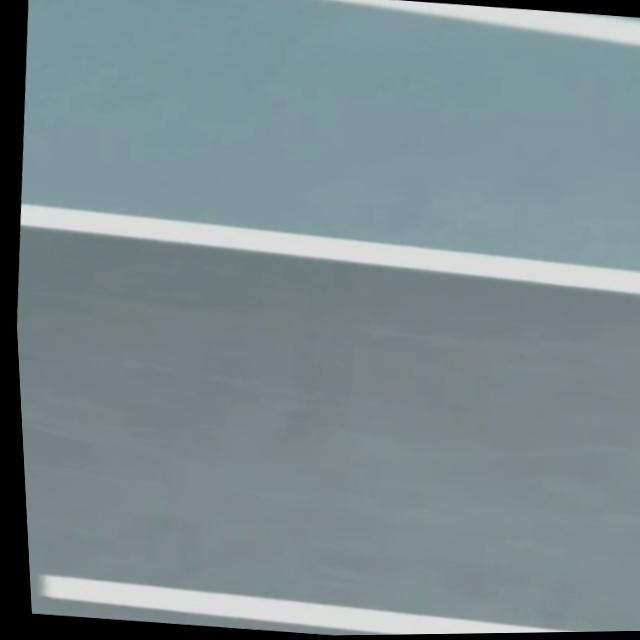center: (40, 575, 583, 635)
left: (19, 203, 640, 293)
